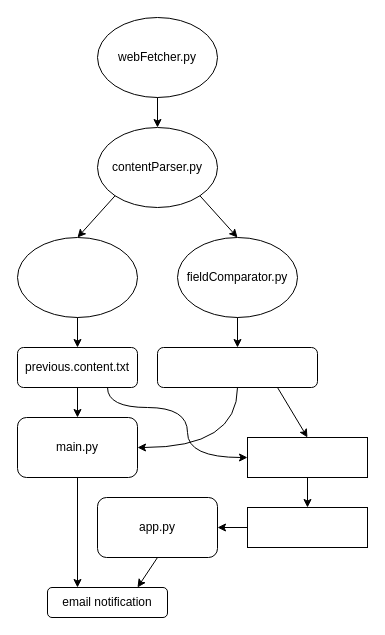
Some shapes in this 385 by 635 pixel diagram are drawn without their labels. Here are the shapes that lost their labels. From the top down, the centre of each, then its label:
At [77,277]: "contentComparator.py".
At [237,367]: "previous_element_content.txt".
At [307,457]: "index.html".
At [307,527]: "style.css".
